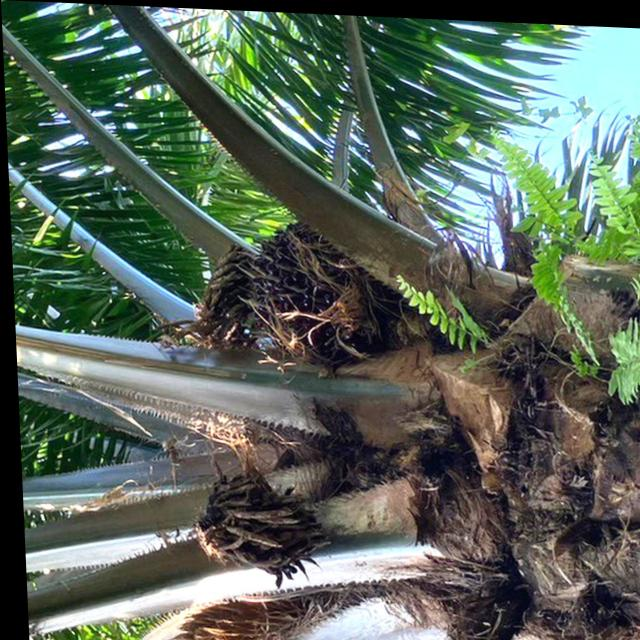ripe: (224, 211, 418, 376)
